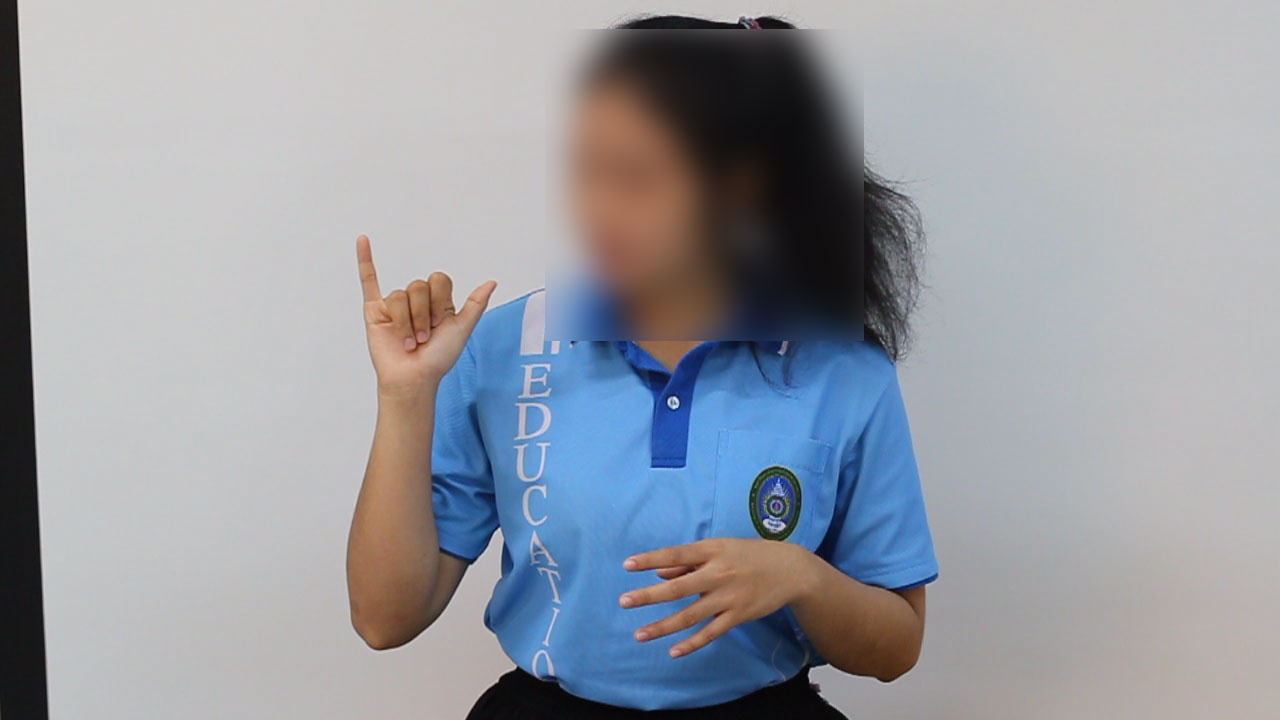yor: (338, 231, 510, 399)
